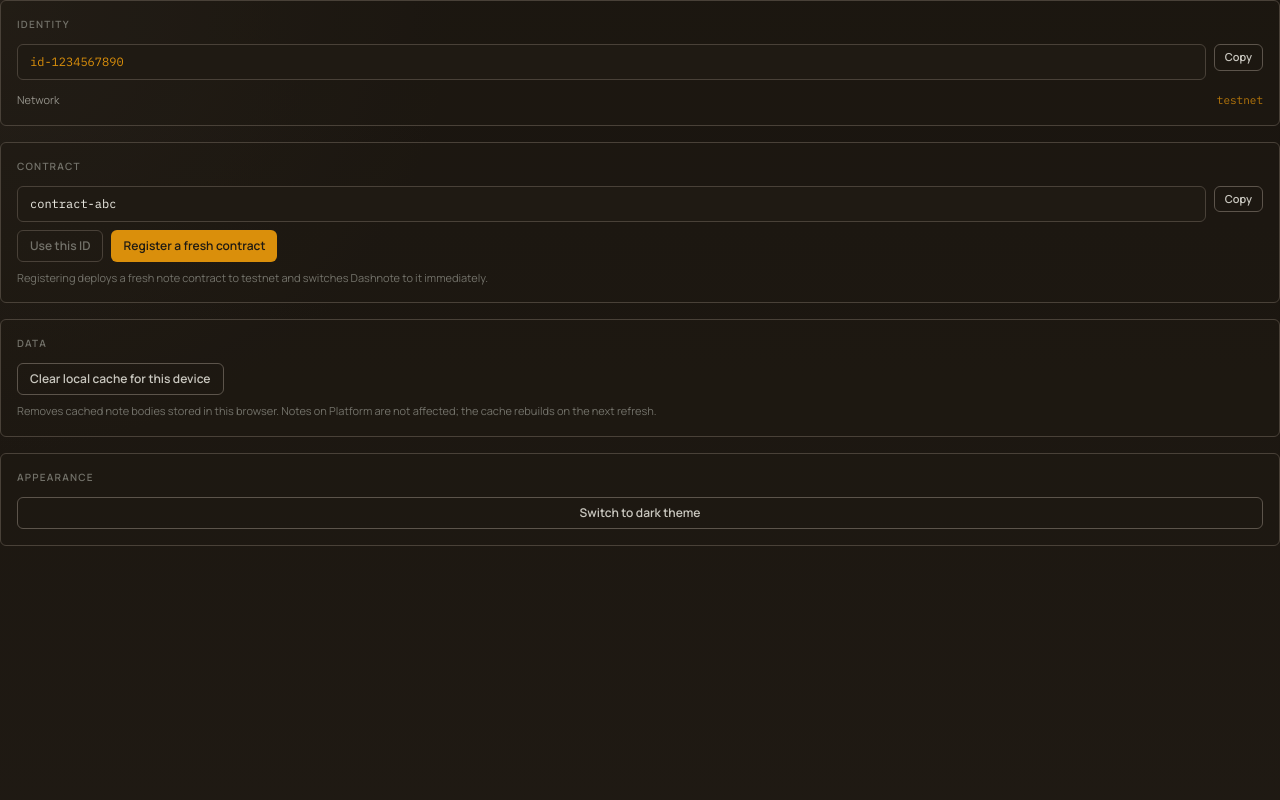
Test: SettingsPanel › surfaces a registration failure without switching contracts
What coordinates should you click on to do the following:
click the button "Register a fresh contract"
I would click on:
 (194, 246)
Its box is [112,230,278,262].
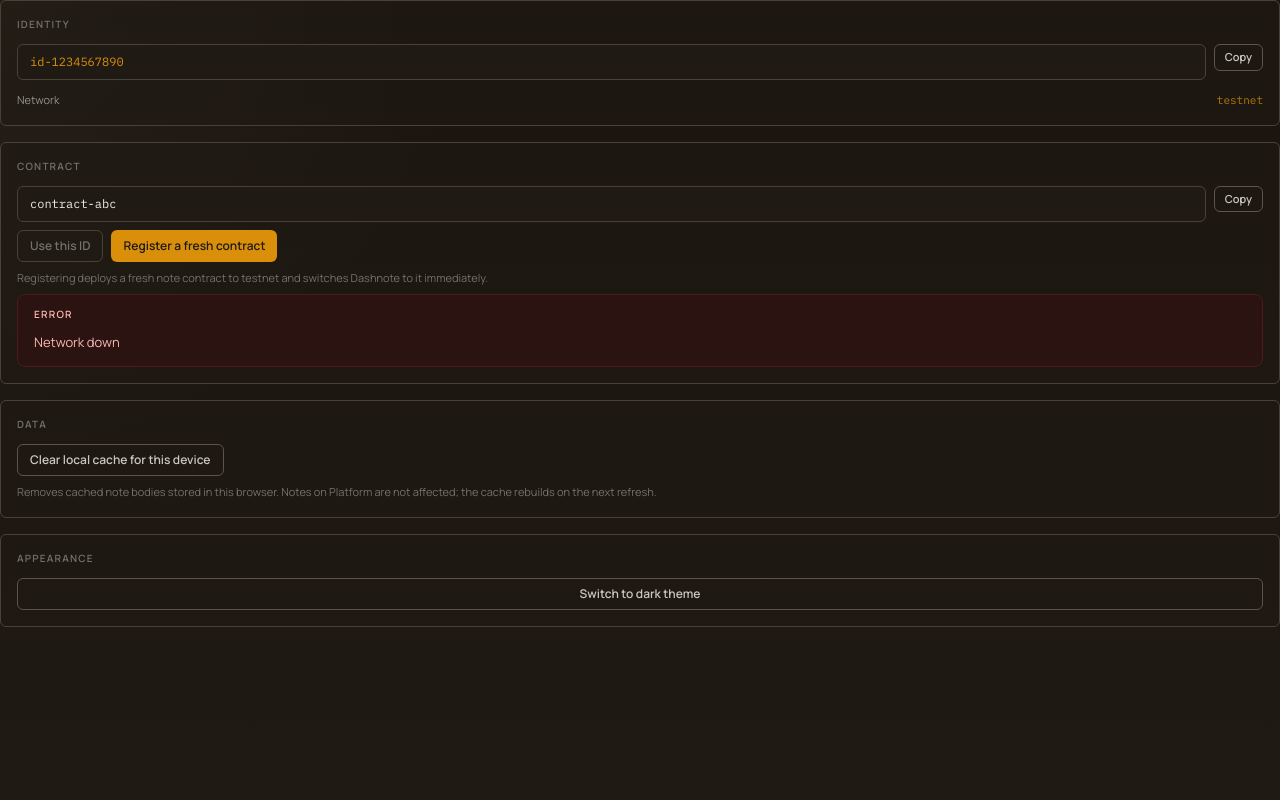
Check: the text "Network down" is shown, box [34,333,120,351]
